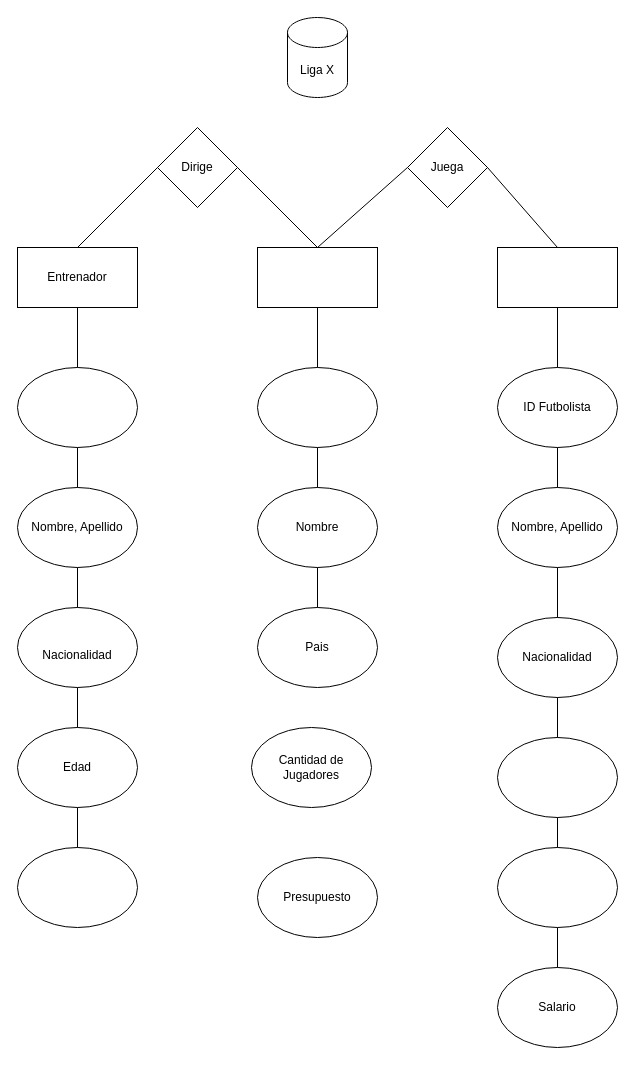
Some shapes in this 635 by 1065 pixel diagram are drawn without their labels. Each missing label, with the centre of its shape:
"Edad, Altura, Peso" belongs at pixel 557 777.
"Equipo" belongs at pixel 317 277.
"Experiencia" belongs at pixel 77 887.
"Futbolista" belongs at pixel 557 277.
"ID Entrenador" belongs at pixel 77 407.
"ID Equipo" belongs at pixel 317 407.
"Posicion" belongs at pixel 557 887.
